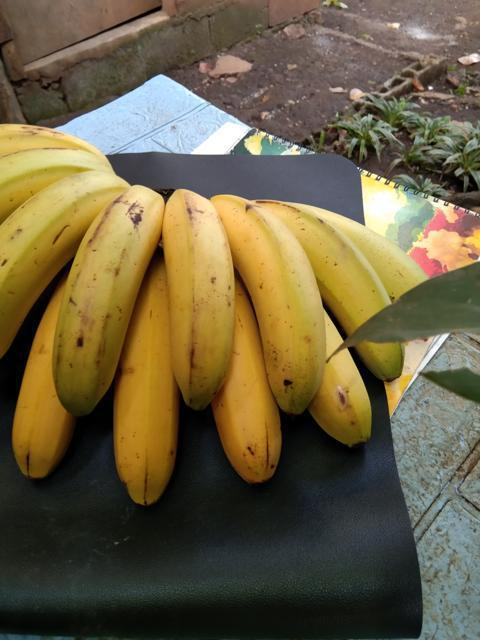freshripe: (41, 178, 163, 409), (157, 179, 244, 401)
